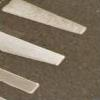Crosswalk: (6, 0, 73, 96)
